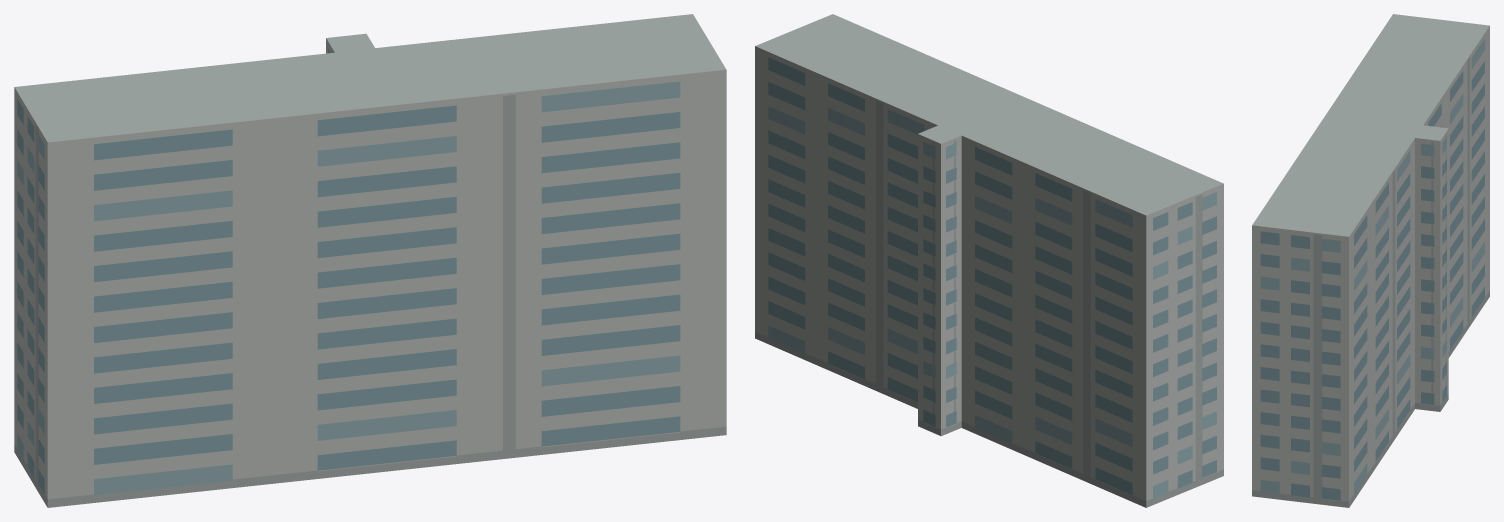
Rendered from residential-a8777d6e-68fa-4577-8aa3-159c8314f3ce.glb.
3 renders of one model, left to right at view 1: azimuth 30°, elevation 25°; view 2: azimuth 150°, elevation 25°; view 3: azimuth 270°, elevation 25°, orthographic. The views are drawn at different scales.
Parts seen in each view (by area): view 1: residential-a8777d6e-68fa-4577-8aa3-159c8314f3ce.tmp; view 2: residential-a8777d6e-68fa-4577-8aa3-159c8314f3ce.tmp; view 3: residential-a8777d6e-68fa-4577-8aa3-159c8314f3ce.tmp.
Boxes of the visible parts, <box> form: residential-a8777d6e-68fa-4577-8aa3-159c8314f3ce.tmp: <box>14,14,726,507</box>; residential-a8777d6e-68fa-4577-8aa3-159c8314f3ce.tmp: <box>755,14,1223,507</box>; residential-a8777d6e-68fa-4577-8aa3-159c8314f3ce.tmp: <box>1252,14,1489,507</box>.
Size of the model in its own units: 64.54 by 36.6 by 29.11.
